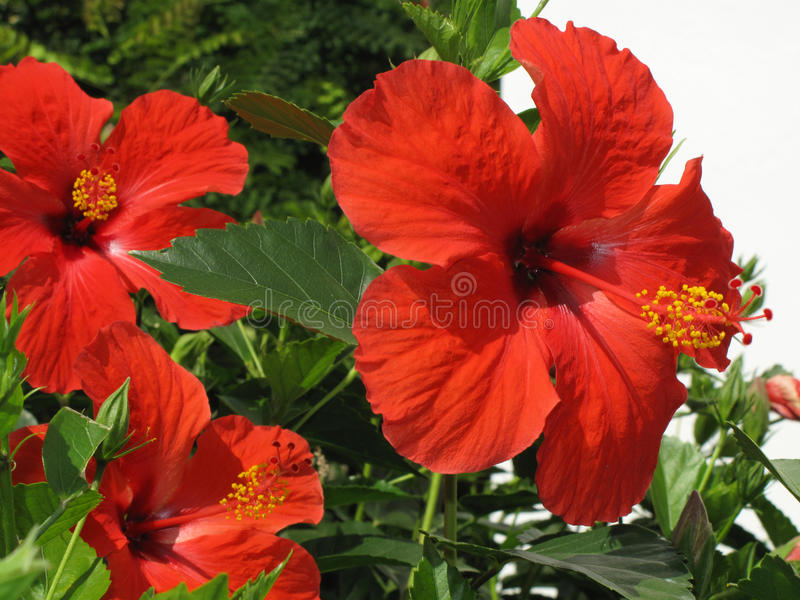Hibiscus: (356, 25, 753, 528), (1, 50, 246, 377), (43, 319, 327, 600)
